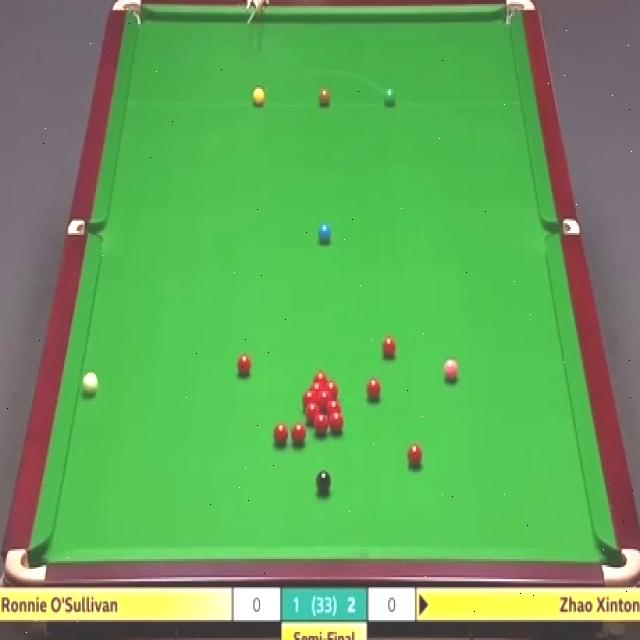black-ball: (315, 470, 332, 495)
blue-ball: (317, 222, 332, 245)
brown-ball: (318, 88, 332, 107)
green-ball: (384, 87, 396, 106)
pink-ball: (442, 357, 460, 382)
red-ball: (379, 336, 396, 361), (236, 353, 251, 378), (273, 422, 289, 445), (291, 424, 306, 448), (329, 410, 344, 434), (407, 444, 422, 468), (314, 412, 329, 435), (366, 377, 380, 401), (305, 403, 320, 422), (323, 381, 339, 398), (325, 400, 341, 414), (317, 391, 332, 405), (302, 390, 317, 403), (313, 371, 329, 382), (310, 382, 326, 390)
white-ball: (81, 370, 99, 398)
yellow-ball: (252, 86, 264, 108)
